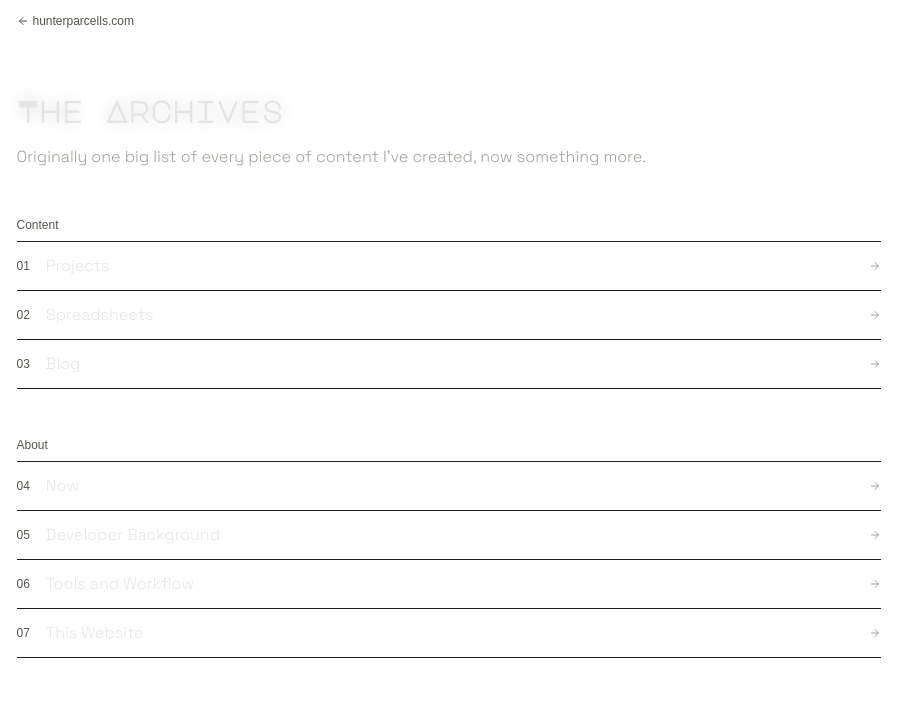
Test: Navigation › internal links › "Projects" navigates to /projects
This screenshot has width=898, height=701.
Click the link "01 Projects" at (449, 267), box [17, 242, 881, 291]
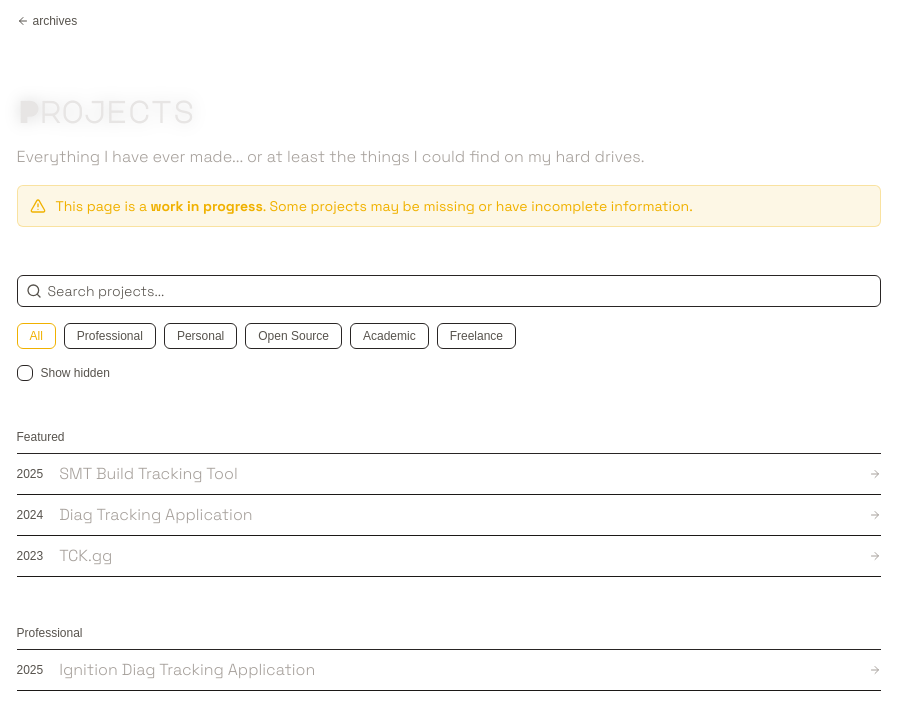
expect the heading "Projects" is shown: met, box [16, 96, 194, 126]
